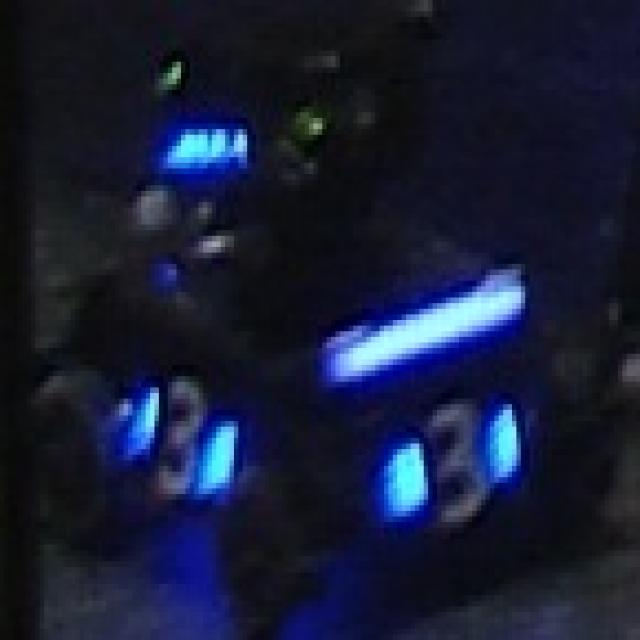B3: (384, 398, 521, 528), (128, 376, 238, 505)
